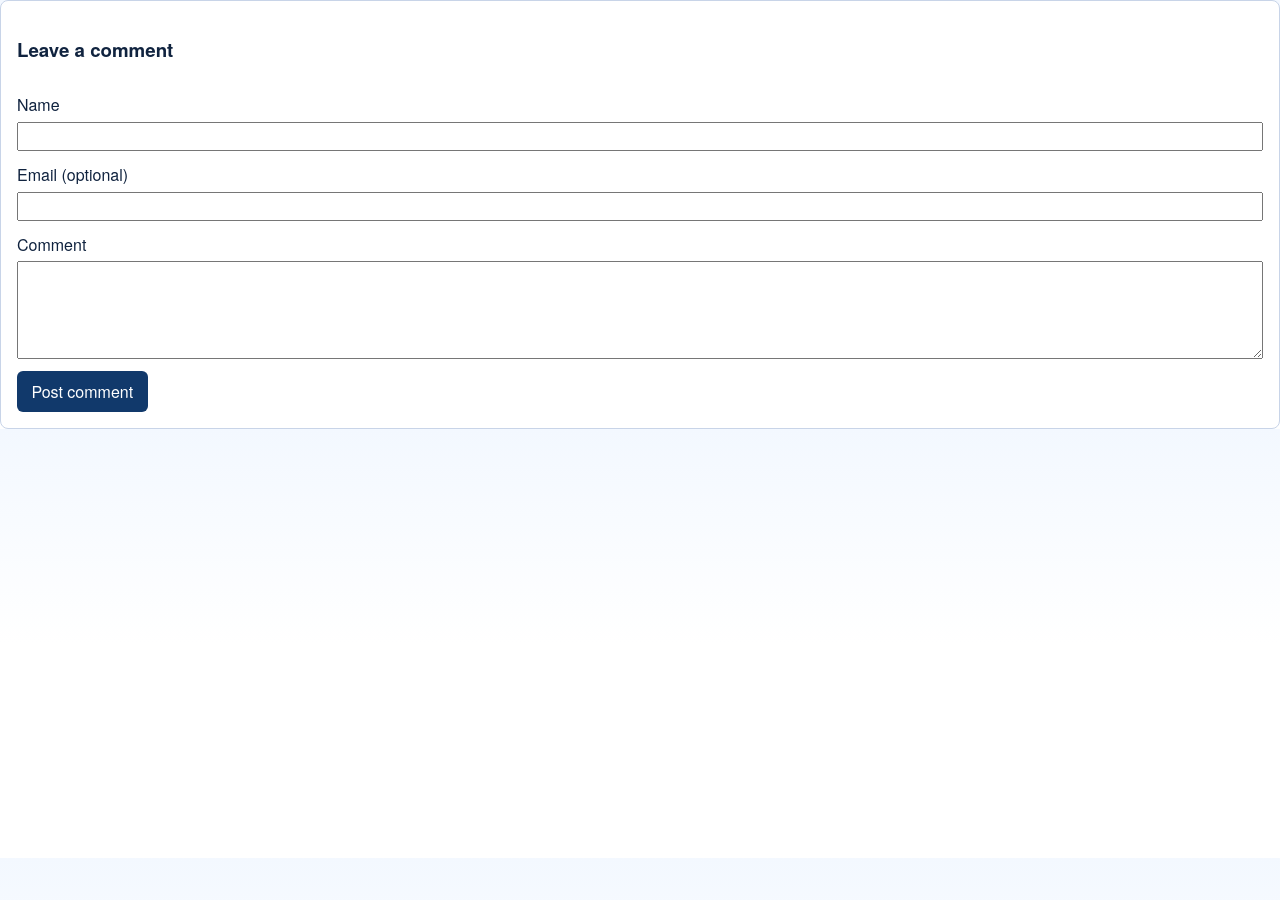
Scenario: CommentForm › shows an error when required fields are blank
The image size is (1280, 900).
Click the button "Post comment" at [82, 392], box [17,371,148,412]
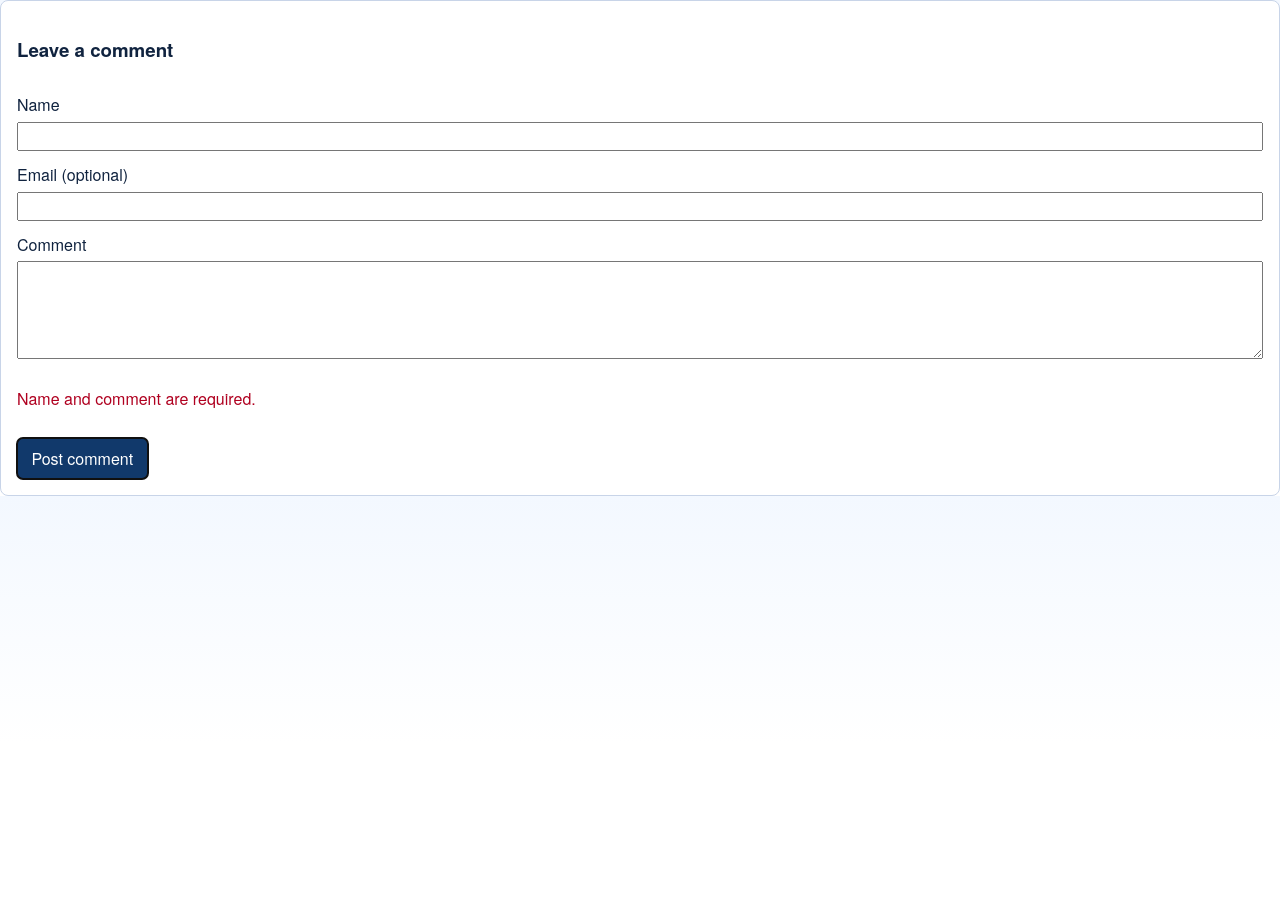
Expected: the text "Name and comment are required." is shown, [17,387,256,410]
